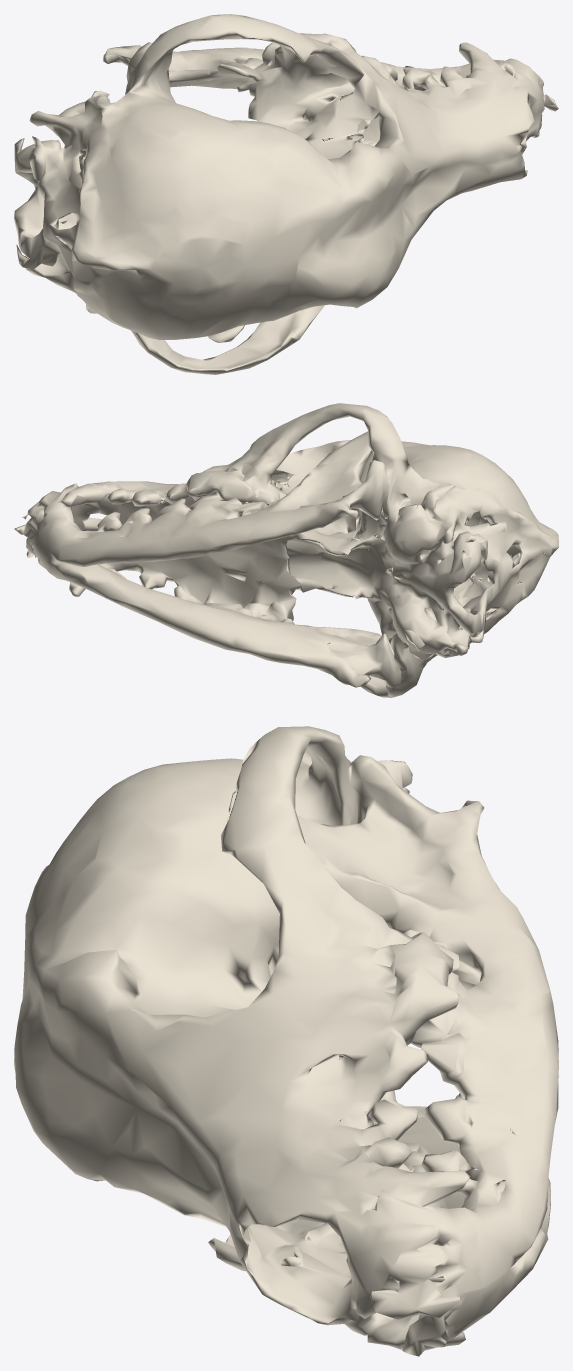
Rendered from canine-skull-nih282-quick-f4079f6aa532.glb.
3 views of the same model, one above another, from view 1: azimuth 30°, elevation 25°; view 2: azimuth 150°, elevation 25°; view 3: azimuth 270°, elevation 25° (orthographic). The views are drawn at different scales.
Visible parts, largest first — view 1: specimen; view 2: specimen; view 3: specimen.
Boxes of the visible parts, box(x1,y1,x2,y2) form: specimen: box(14, 14, 558, 374); specimen: box(14, 403, 558, 697); specimen: box(14, 726, 558, 1356).
Size of the model in its own units: 2 by 1.19 by 1.12.
